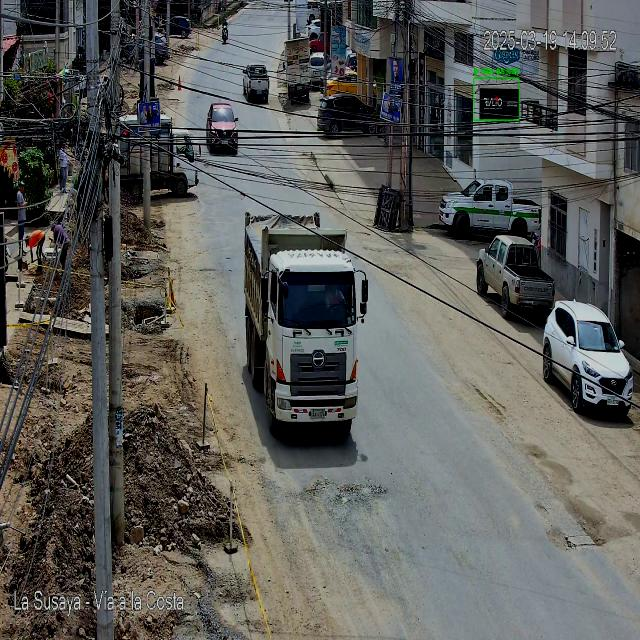TRUCK: (244, 210, 368, 426)
